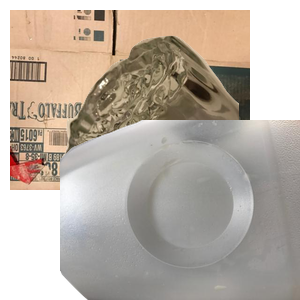cardboard: (10, 10, 250, 190)
glass: (60, 33, 300, 213)
plastic: (60, 120, 300, 300)
trash: (88, 177, 251, 300)
